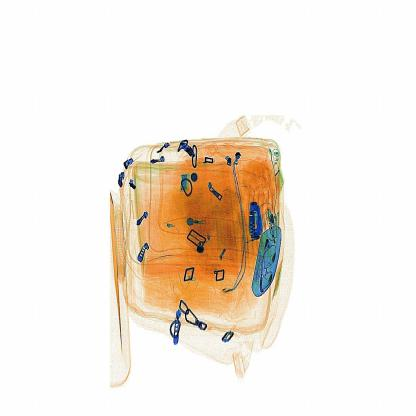scissors: (241, 196, 271, 248)
